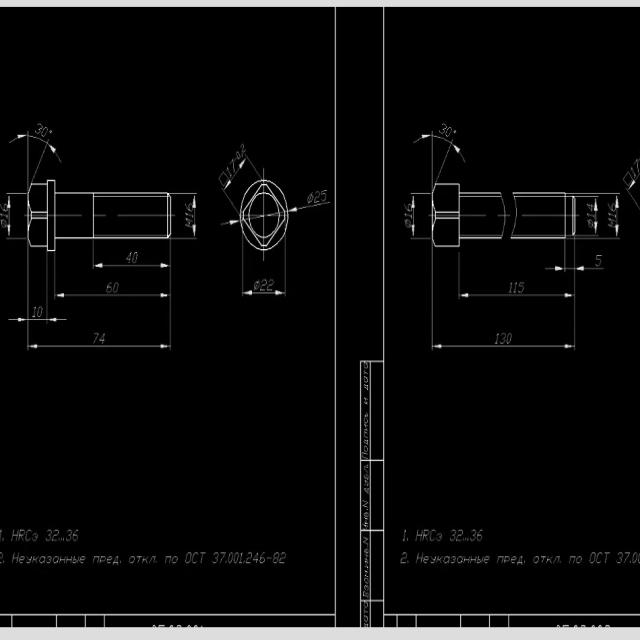marking_line: (30, 343, 169, 349), (56, 292, 170, 299), (461, 293, 574, 298), (95, 262, 169, 269), (432, 345, 574, 348), (8, 317, 68, 324), (545, 266, 605, 272), (593, 196, 599, 236), (615, 195, 620, 237), (192, 194, 196, 237), (7, 195, 11, 236)
numeric: (266, 279, 274, 292), (439, 122, 447, 135), (595, 253, 603, 266), (184, 202, 193, 213), (91, 331, 98, 344), (321, 190, 328, 203), (633, 159, 640, 172), (403, 203, 413, 212), (585, 202, 595, 211), (445, 126, 452, 138), (36, 307, 43, 319), (99, 332, 105, 346), (112, 281, 119, 293), (315, 190, 321, 204), (231, 159, 237, 173), (519, 281, 526, 293), (608, 202, 617, 211), (126, 251, 132, 264), (131, 251, 137, 264), (261, 278, 267, 291), (506, 332, 512, 345), (240, 144, 247, 155), (630, 168, 637, 179), (107, 281, 113, 293), (608, 211, 617, 219), (226, 168, 233, 178), (500, 332, 505, 345), (403, 213, 413, 219), (495, 333, 500, 345), (0, 213, 8, 220), (0, 204, 7, 212), (236, 151, 242, 160), (33, 307, 37, 320), (514, 282, 518, 294), (508, 282, 512, 292), (185, 213, 192, 218), (587, 213, 595, 217)
special_symbol: (8, 136, 61, 181), (403, 218, 412, 230), (252, 279, 260, 292), (306, 192, 314, 205), (1, 218, 8, 230), (585, 219, 594, 228), (454, 128, 458, 135)
